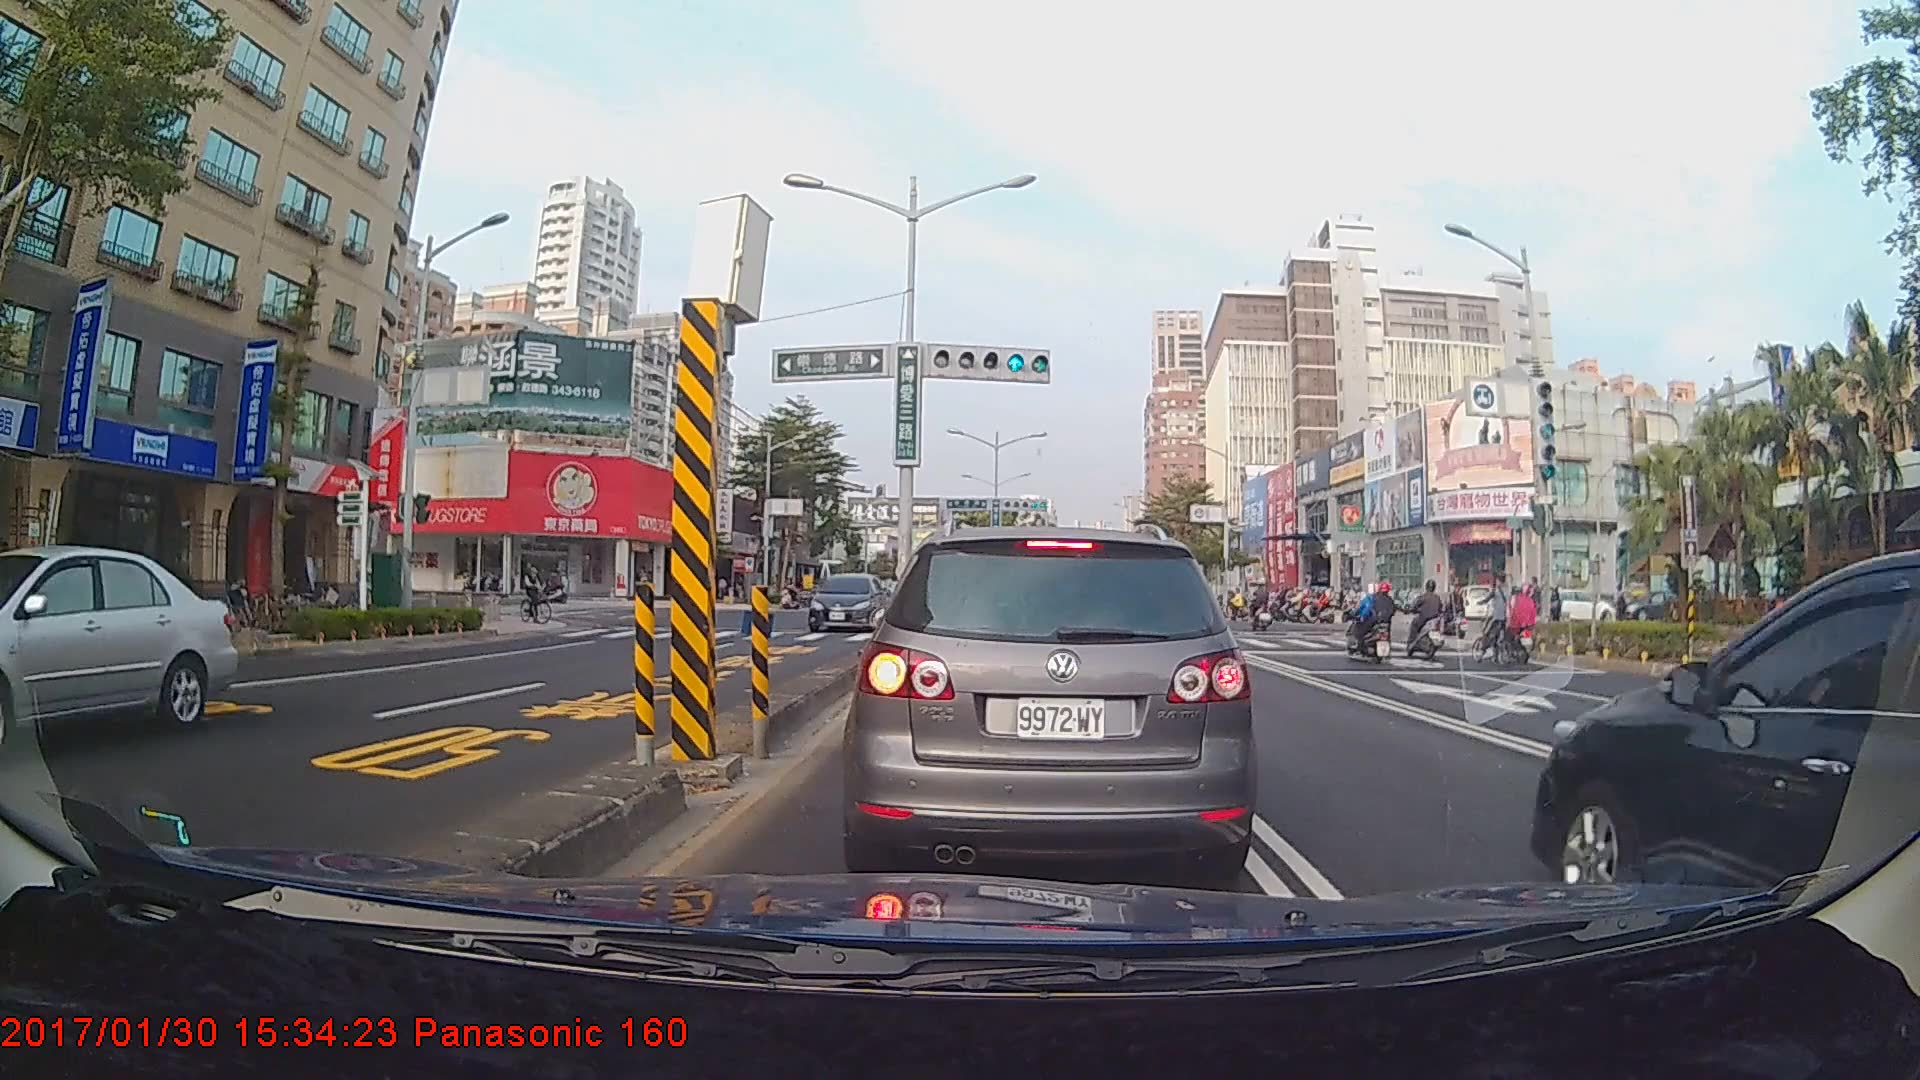pedestrian: (1610, 581, 1630, 640)
rider: (1467, 570, 1521, 667), (1349, 580, 1404, 667), (1401, 580, 1455, 661), (518, 559, 561, 629), (1244, 576, 1280, 636), (529, 567, 571, 605)
vehicle: (853, 522, 1250, 879), (1531, 554, 1917, 884), (0, 543, 239, 766), (805, 571, 889, 633)
